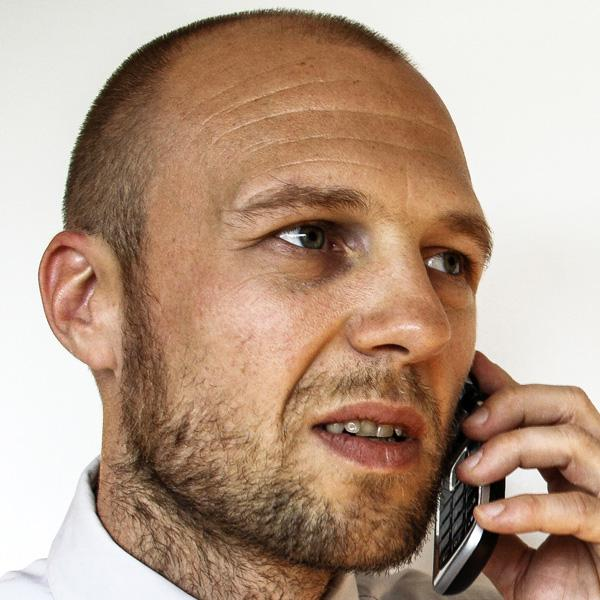Eyes: (256, 208, 361, 271), (411, 228, 478, 294)
